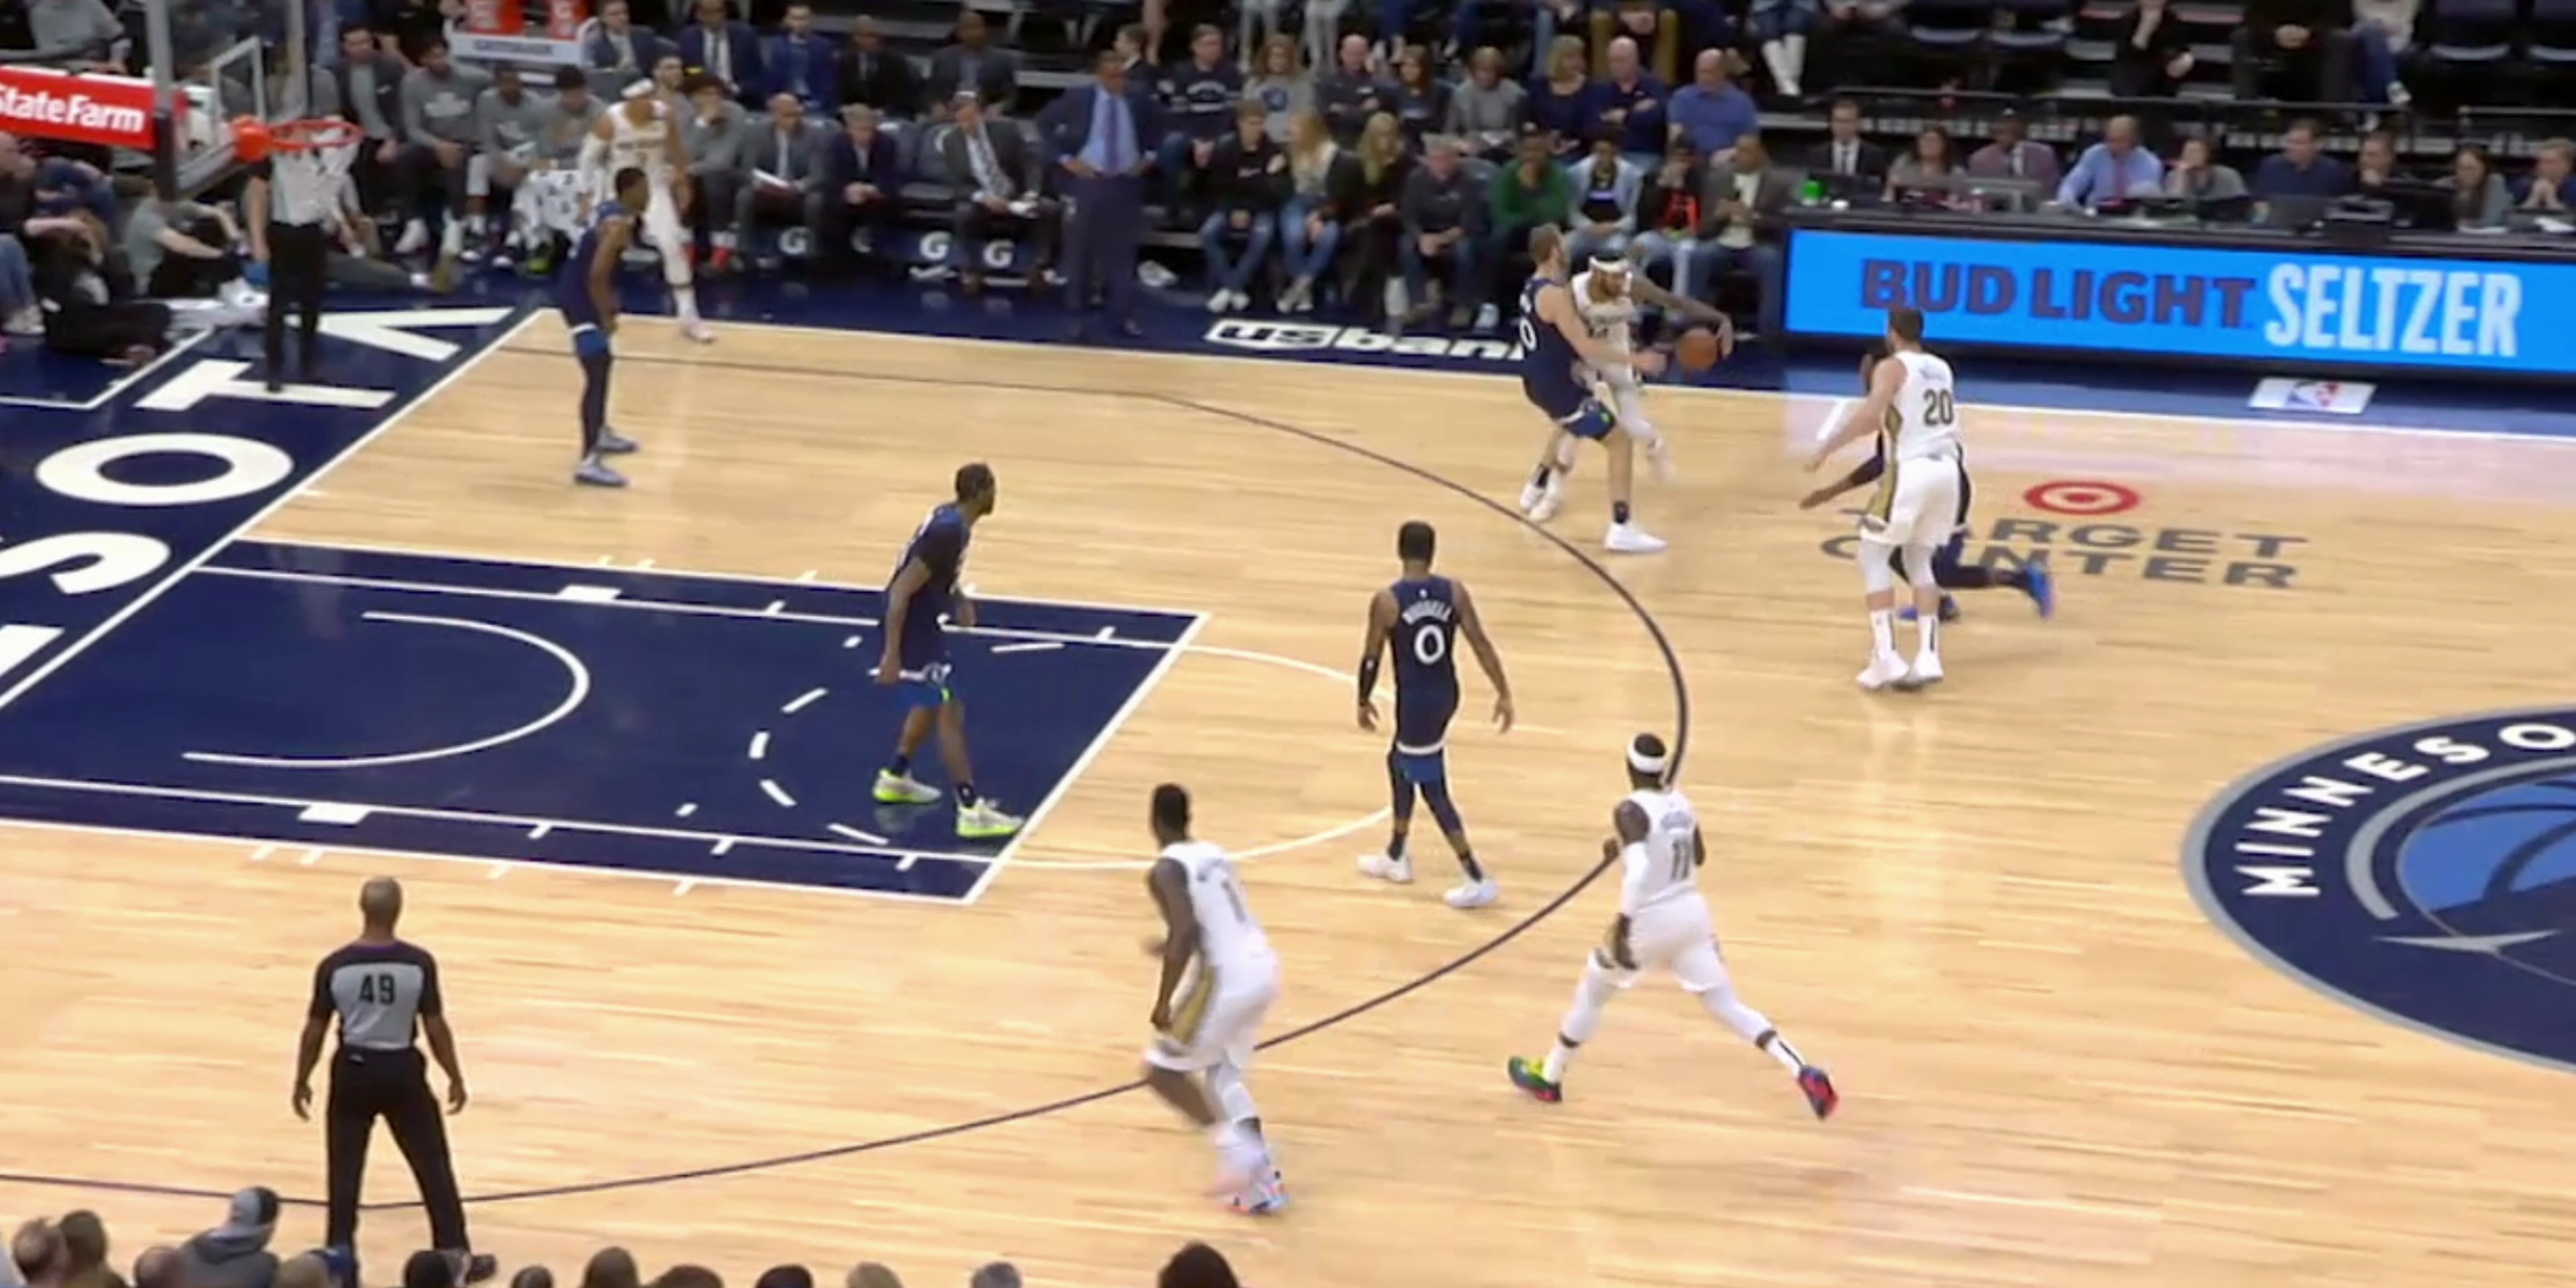Foul: (1510, 218, 1727, 537)
